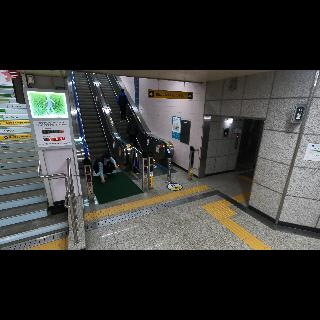anomaly: (92, 150, 118, 183)
normal: (116, 88, 130, 124), (126, 115, 140, 151)
